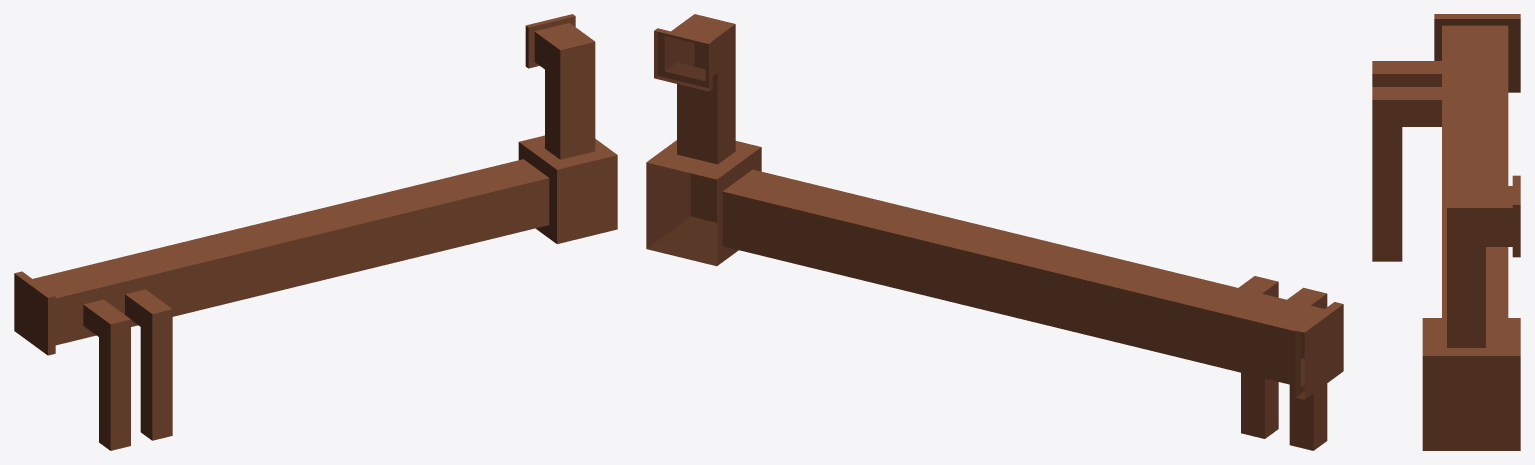
The model's file is AI_Env_Sewer_Pipeline_End.fbx.
3 renders of one model, left to right at view 1: azimuth 30°, elevation 25°; view 2: azimuth 150°, elevation 25°; view 3: azimuth 270°, elevation 25°, orthographic. The views are drawn at different scales.
Visible parts, largest first — view 1: AI_Env_Sewer_Pipeline_End; view 2: AI_Env_Sewer_Pipeline_End; view 3: AI_Env_Sewer_Pipeline_End.
Part boxes in pixels (x1,y1,x2,y2): AI_Env_Sewer_Pipeline_End: (14, 14, 617, 450); AI_Env_Sewer_Pipeline_End: (646, 14, 1343, 450); AI_Env_Sewer_Pipeline_End: (1372, 14, 1520, 450).
Size of the model in its own units: 2.64 by 1.2 by 0.4689.
